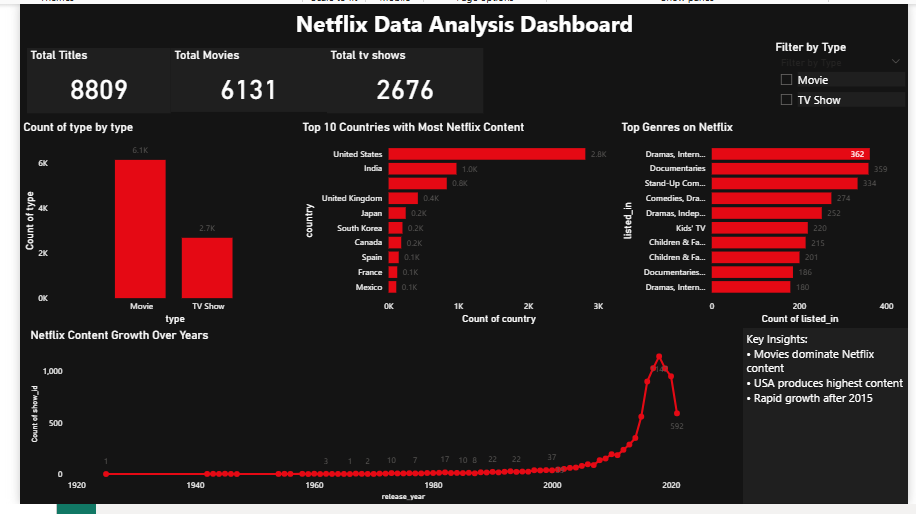

What the dashboard file says about the page in this screenshot:
{"tool":"powerbi","page":{"name":"Page 1","canvas":[1280,720],"ordinal":0},"visuals":[{"type":"clusteredColumnChart","fields":{"Y":["CountNonNull(netflix_titles.type)"],"Category":["netflix_titles.type"]},"box":[0,167,401.8,299.5],"z":0},{"type":"clusteredBarChart","title":"Top 10 Countries with Most Netflix Content","fields":{"Category":["netflix_titles.country"],"Y":["CountNonNull(netflix_titles.country)"]},"box":[401.8,167,459.4,299.5],"z":1},{"type":"lineChart","title":"Netflix Content Growth Over Years","fields":{"Category":["netflix_titles.release_year"],"Y":["CountNonNull(netflix_titles.show_id)"]},"box":[10.1,466.6,1031,253.4],"z":2},{"type":"clusteredBarChart","title":"Top Genres on Netflix","fields":{"Category":["netflix_titles.listed_in"],"Y":["CountNonNull(netflix_titles.listed_in)"]},"box":[861.1,167,404.6,299.5],"z":3},{"type":"slicer","title":"Filter by Type","fields":{"Values":["netflix_titles.type"]},"box":[1082.9,51.8,197.3,105.1],"z":4},{"type":"textbox","box":[0,0,1280.2,63.4],"z":5},{"type":"card","title":"Total Titles","fields":{"Values":["CountNonNull(netflix_titles.show_id)"]},"box":[10.1,63.4,207.4,93.6],"z":6},{"type":"card","title":"Total Movies","fields":{"Values":["CountNonNull(netflix_titles.show_id)"]},"box":[217.4,63.4,224.6,92.2],"z":7},{"type":"card","title":"Total tv shows","fields":{"Values":["CountNonNull(netflix_titles.type)"]},"box":[442.1,63.4,224.6,93.6],"z":8},{"type":"textbox","box":[1041.1,466.6,239,253.4],"z":9}]}

Visuals, with their boxes in screenshot pixels (x1, y1, x2, y2), scaled from the page's 1280x720 canvas onto the 916x514 screenshot:
clusteredColumnChart - CountNonNull(netflix_titles.type) x netflix_titles.type: (0,119,288,333)
"Top 10 Countries with Most Netflix Content" clusteredBarChart: (288,119,616,333)
"Netflix Content Growth Over Years" lineChart: (7,333,745,513)
"Top Genres on Netflix" clusteredBarChart: (616,119,906,333)
"Filter by Type" slicer: (775,37,915,112)
textbox: (0,0,915,45)
"Total Titles" card: (7,45,156,112)
"Total Movies" card: (156,45,316,111)
"Total tv shows" card: (316,45,477,112)
textbox: (745,333,915,513)
